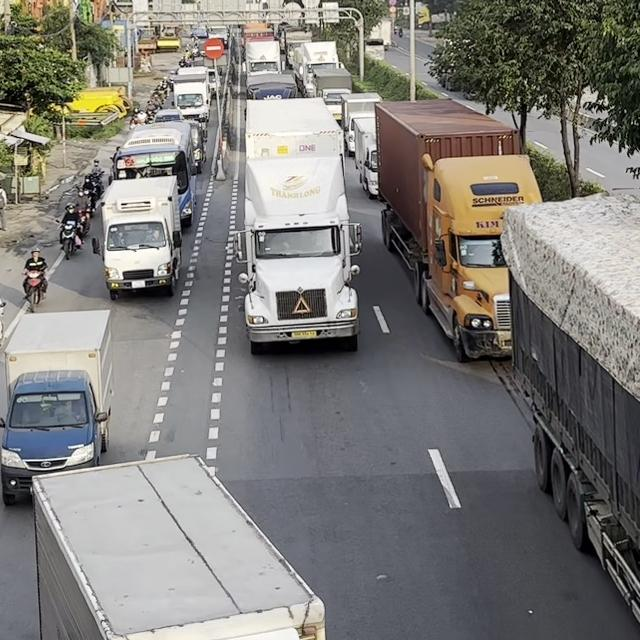bus: (108, 125, 197, 226)
motorcycle: (54, 217, 83, 260), (21, 267, 48, 313)
truck: (498, 190, 639, 639), (29, 452, 327, 639), (375, 97, 544, 362), (229, 95, 362, 355), (0, 302, 114, 505), (91, 175, 183, 300), (340, 92, 382, 156), (168, 66, 211, 122), (353, 115, 380, 199)
